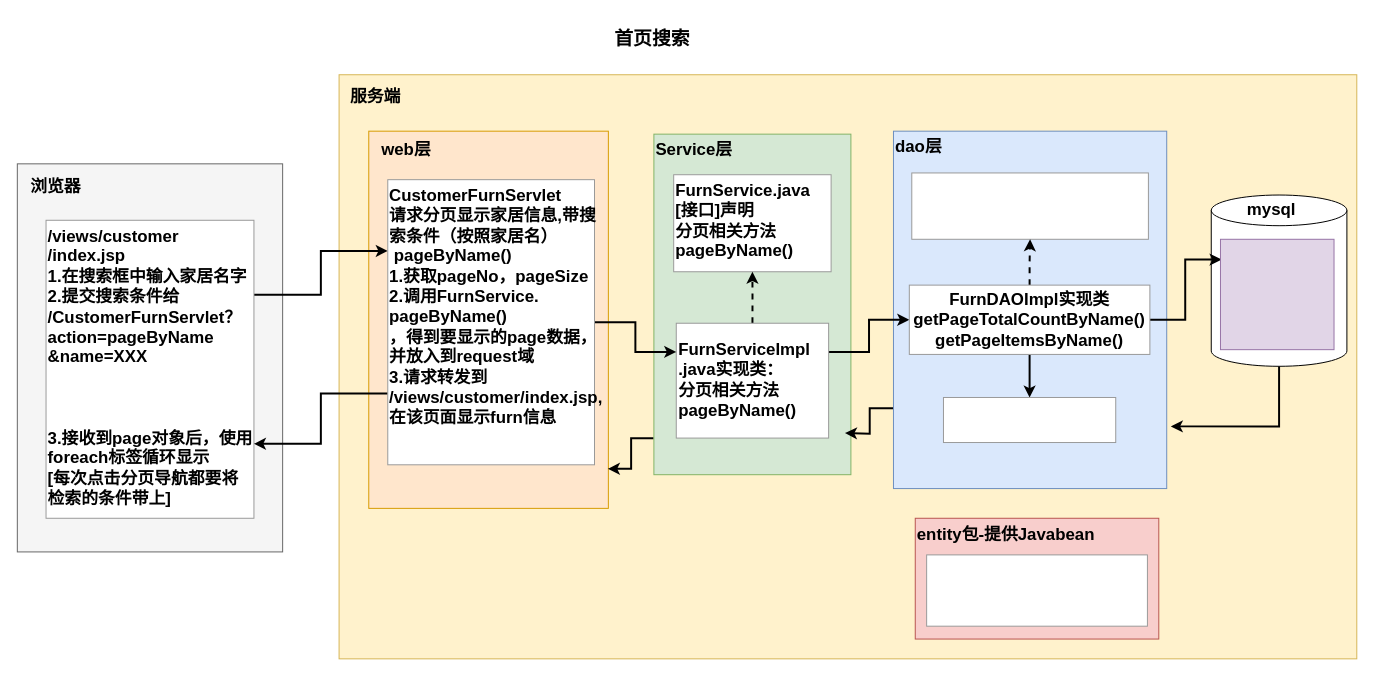
The diagram is 1374 pixels wide and 676 high, and some of its shapes have lost their labels. Here are the shapes that lost their labels. From the top down, the centre of each, then its label:
At point 1029,205: "FurnDAO接口 getPageTotalCountByName() getPageItemsByName()".
At point 1276,294: "furn表[家居表] 字段 id name marker...".
At point 1029,419: "BasicDAO[基础DAO]".
At point 1036,590: "Page.java-分页的各个信息 pageSize，pageNo items该页要显示的Furn集合".
